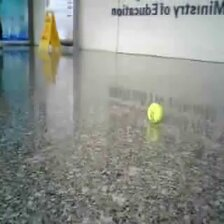tennis: (147, 103, 163, 124)
